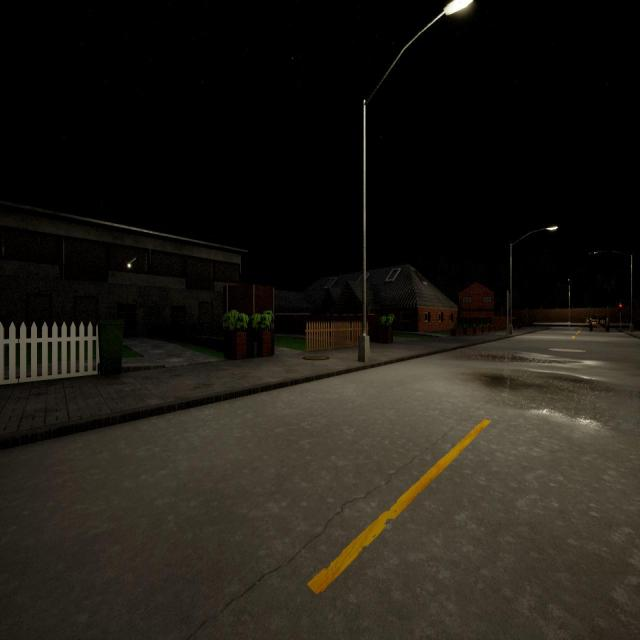Vehicle: (589, 313, 610, 332)
traffic_light: (619, 303, 622, 311)
